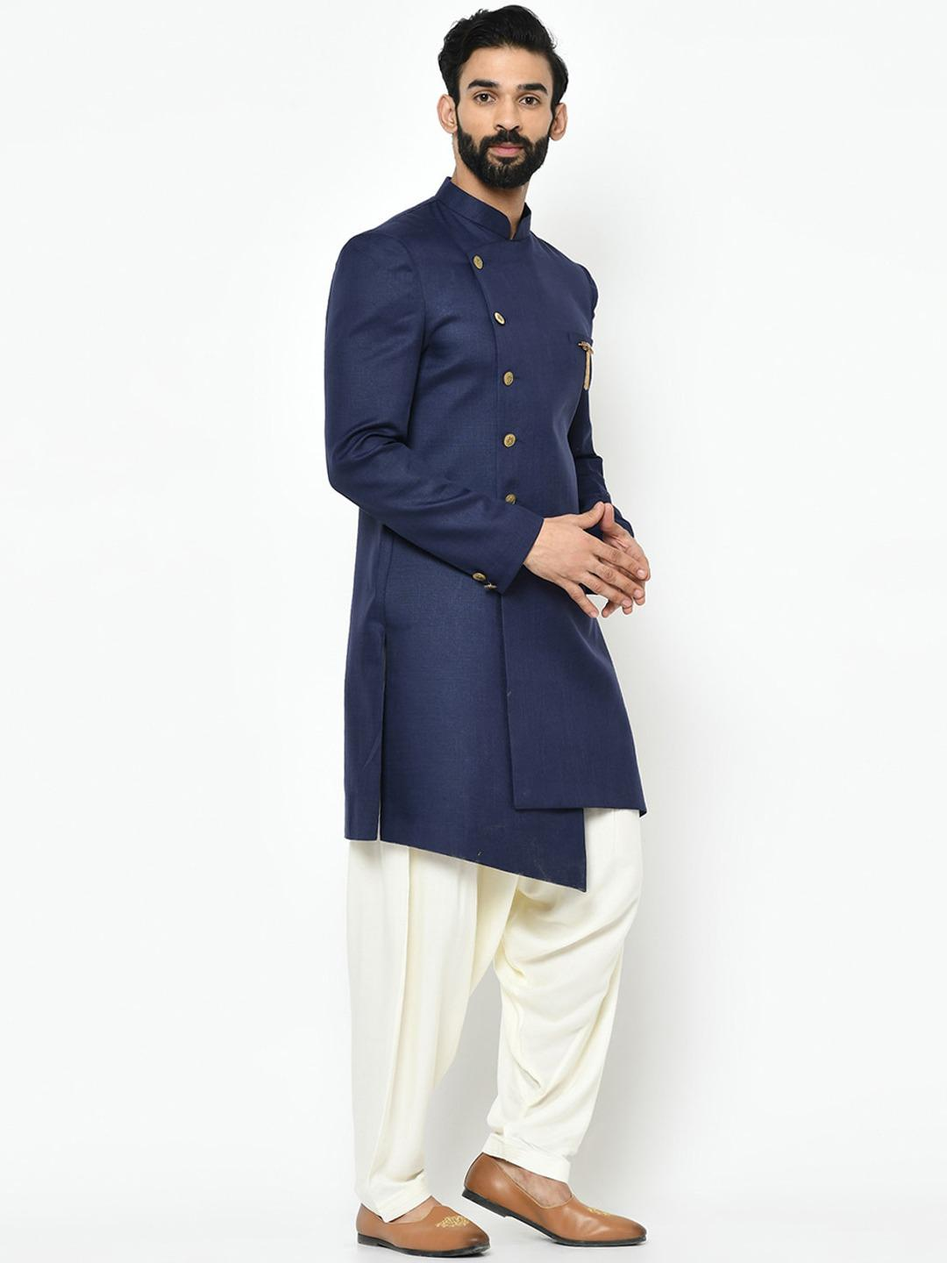Plain Sherwani: (314, 173, 654, 892)
